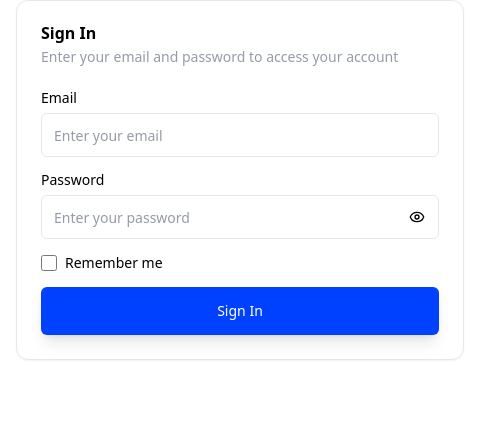
Scenario: LoginForm › should show validation error for invalid email
Type "invalid-email" into the field with placeholder "Enter your email" at (240, 135), box [41,113,439,157]
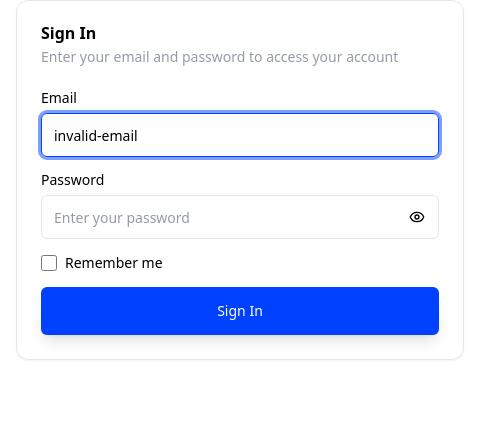
Click the button "Sign In" at (240, 311), box [41,287,439,335]
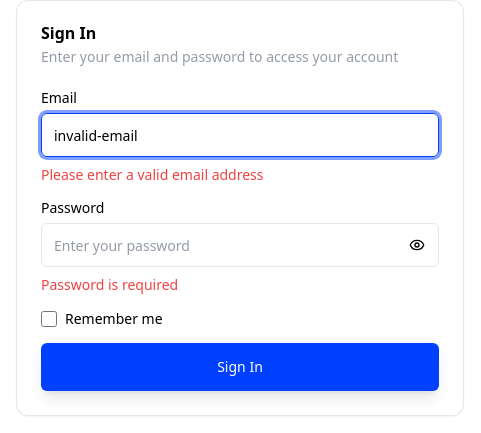
Check: the text "Please enter a valid email address" is shown, box [41,165,264,184]
